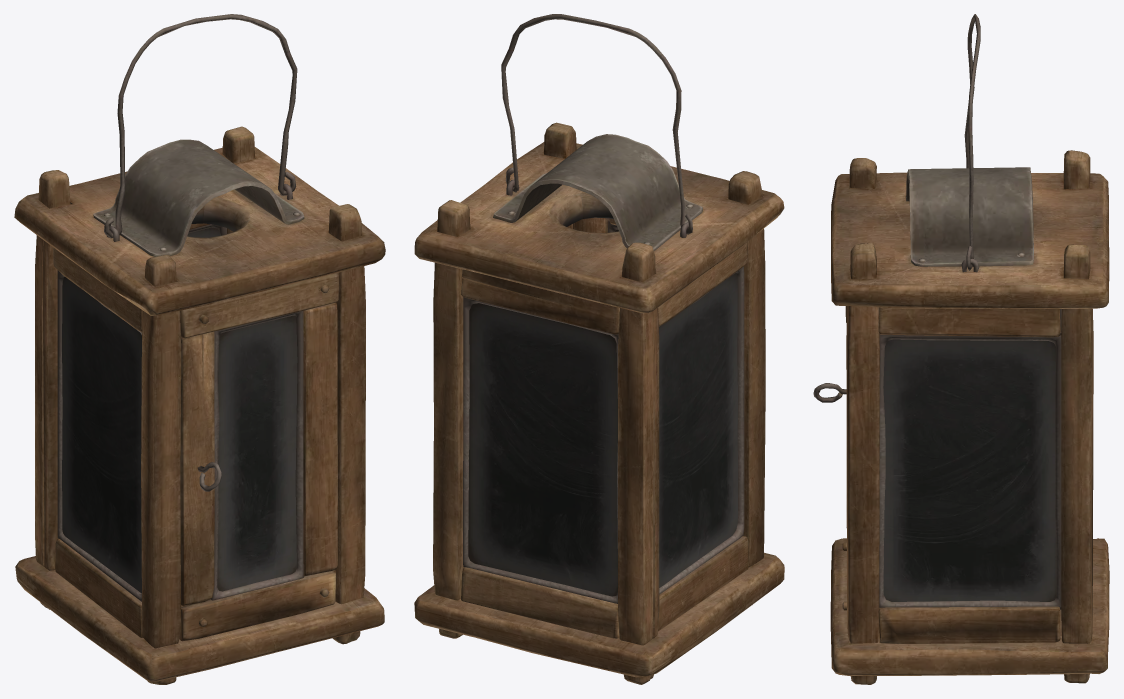
File: wooden_lantern_01.glb
The picture shows the model from 3 angles, left to right: view 1: azimuth 30°, elevation 25°; view 2: azimuth 150°, elevation 25°; view 3: azimuth 270°, elevation 25°; orthographic projection.
Visible parts, largest first — view 1: wooden_lantern_01; view 2: wooden_lantern_01; view 3: wooden_lantern_01.
Boxes of the visible parts, left/top/right/bottom form: wooden_lantern_01: left=14, top=14, right=385, bottom=684; wooden_lantern_01: left=414, top=14, right=784, bottom=684; wooden_lantern_01: left=813, top=14, right=1109, bottom=684.
Bounding box in the file's own units: 0.2211 × 0.5296 × 0.2347.
Materials: 2 (2 with a texture image).
